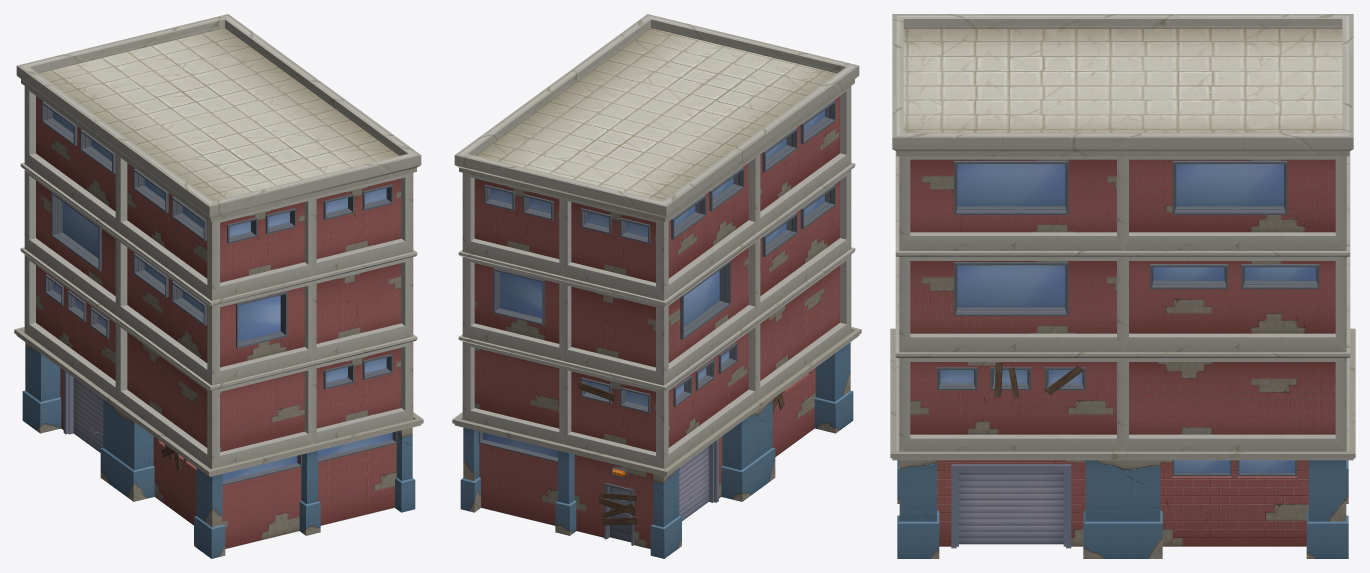
Rendered from Building_03_4_LOD2.fbx.
The picture shows the model from 3 angles, left to right: view 1: azimuth 30°, elevation 25°; view 2: azimuth 150°, elevation 25°; view 3: azimuth 270°, elevation 25°; orthographic projection. The views are drawn at different scales.
Parts seen in each view (by area): view 1: polySurface4859; view 2: polySurface4859; view 3: polySurface4859.
Part boxes in pixels (x1,y1,x2,y2): polySurface4859: [14, 14, 423, 558]; polySurface4859: [452, 14, 861, 558]; polySurface4859: [890, 14, 1355, 558].
Bounding box in the file's own units: 796 × 1256 × 1251.
